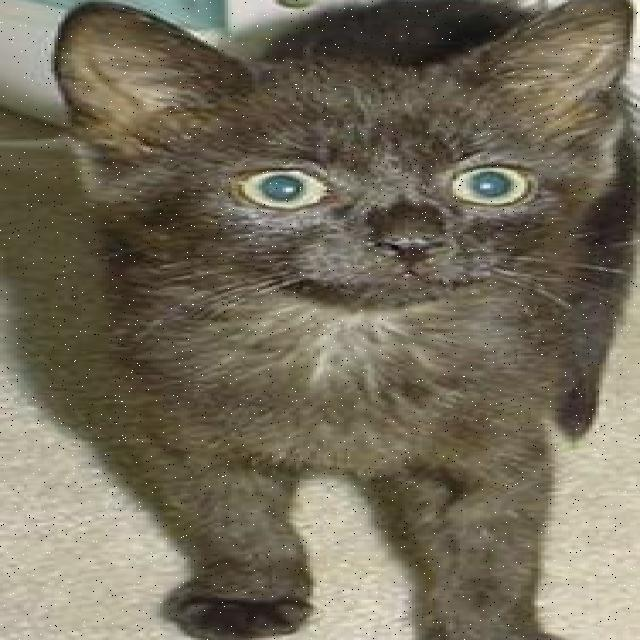Cat: (78, 15, 640, 327)
